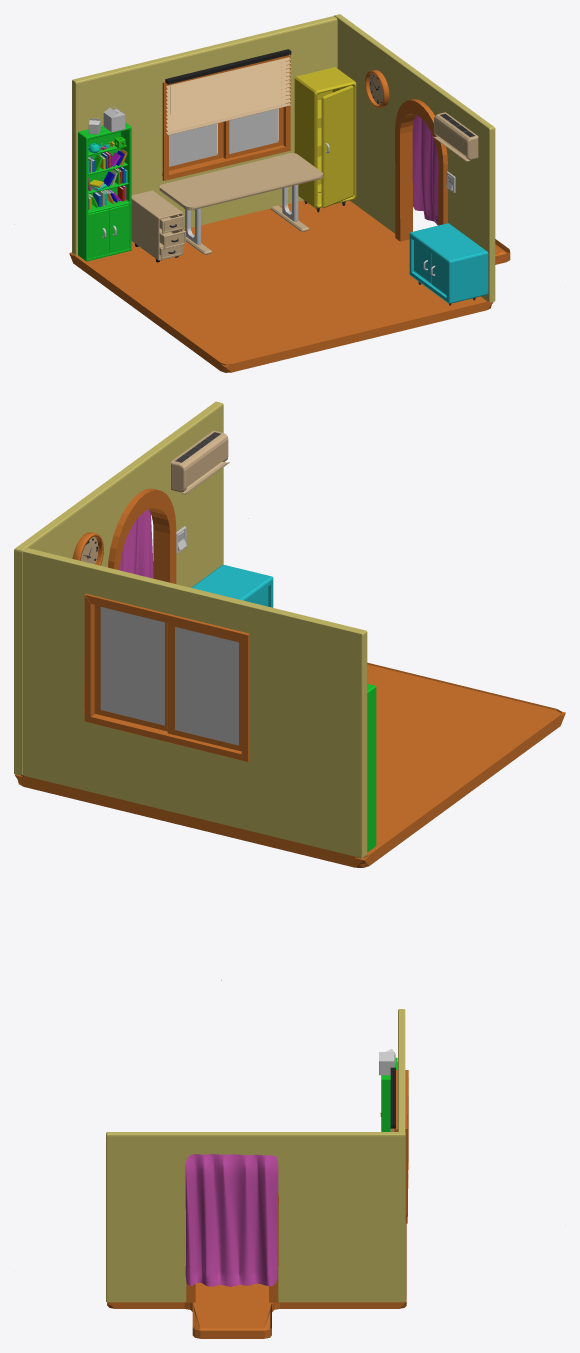
The model's file is room_escape_new_8.obj.
The picture shows the model from 3 angles, top to bottom: view 1: azimuth 30°, elevation 25°; view 2: azimuth 150°, elevation 25°; view 3: azimuth 270°, elevation 25°; orthographic projection. The views are drawn at different scales.
Visible parts, largest first — view 1: Grid_wooden, 立方体_mihuangse, Venetian_slats_warm_white, Cylinder.002_light_green, Grid.011_warm_white, Grid.010_yellow, Grid.003_blue, 立方体.002_wooden, 立方体.002_yellow, Grid.002_glass, Vert_door_cloth, 立方体.001_wooden (+10 smaller); view 2: 立方体_mihuangse, Grid_wooden, Grid.002_glass, 立方体.001_wooden, 立方体.002_wooden, Cube_wooden, Grid.003_blue, 立方体.008_warm_white, Vert_door_cloth, Cylinder.002_light_green; view 3: 立方体_mihuangse, Vert_door_cloth, Grid_wooden, 立方体.001_wooden, Cylinder.002_light_green, 立方体.002_wooden.
Part boxes in pixels (<box>): Grid_wooden: <box>69,200,510,372</box>; 立方体_mihuangse: <box>72,14,495,302</box>; Venetian_slats_warm_white: <box>166,57,290,132</box>; Cylinder.002_light_green: <box>78,122,131,261</box>; Grid.011_warm_white: <box>159,153,322,210</box>; Grid.010_yellow: <box>294,67,356,208</box>; Grid.003_blue: <box>409,223,488,303</box>; 立方体.002_wooden: <box>395,99,447,241</box>; 立方体.002_yellow: <box>321,85,353,208</box>; Grid.002_glass: <box>169,108,278,166</box>; Vert_door_cloth: <box>412,115,438,224</box>; 立方体.001_wooden: <box>162,54,290,180</box>; 立方体_mihuangse: <box>14,401,367,858</box>; Grid_wooden: <box>15,662,565,867</box>; Grid.002_glass: <box>100,607,238,745</box>; 立方体.001_wooden: <box>84,593,249,761</box>; 立方体.002_wooden: <box>108,488,176,583</box>; Cube_wooden: <box>94,605,241,751</box>; Grid.003_blue: <box>191,565,273,607</box>; 立方体.008_warm_white: <box>171,430,228,492</box>; Vert_door_cloth: <box>120,509,153,578</box>; Cylinder.002_light_green: <box>367,684,376,852</box>; 立方体_mihuangse: <box>106,1009,405,1302</box>; Vert_door_cloth: <box>185,1154,278,1286</box>; Grid_wooden: <box>107,1223,406,1338</box>; 立方体.001_wooden: <box>394,1070,408,1223</box>; Cylinder.002_light_green: <box>381,1057,397,1131</box>; 立方体.002_wooden: <box>186,1192,278,1302</box>.
Size of the model in its own units: 8.93 by 5.45 by 13.3.
